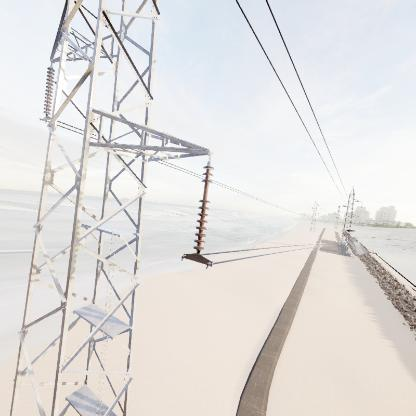insulator: (190, 162, 216, 255), (40, 65, 57, 120)
tower: (334, 186, 363, 252)
